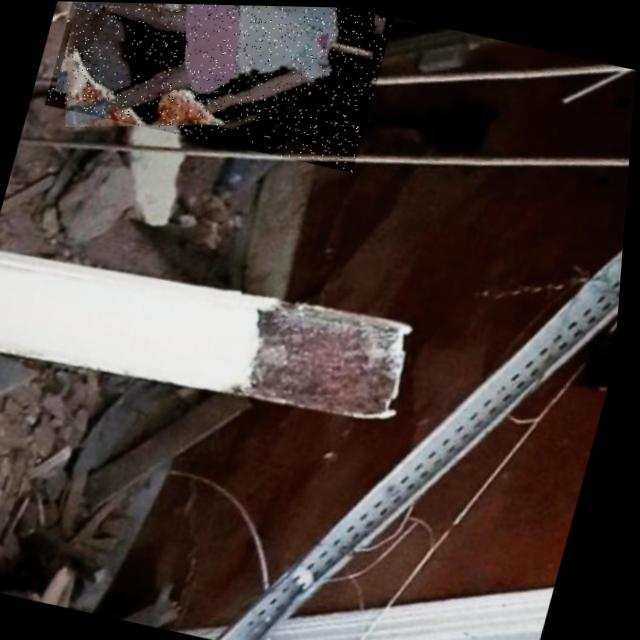Person in Rubble: (41, 1, 393, 171)
